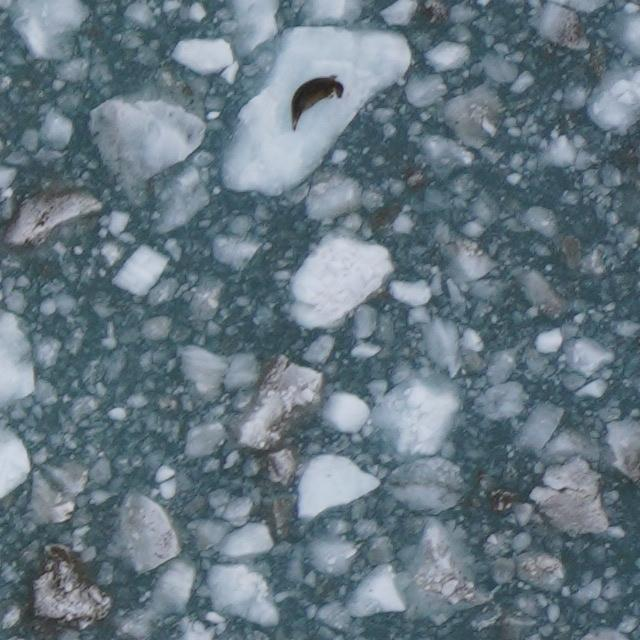seal: (286, 71, 347, 135)
